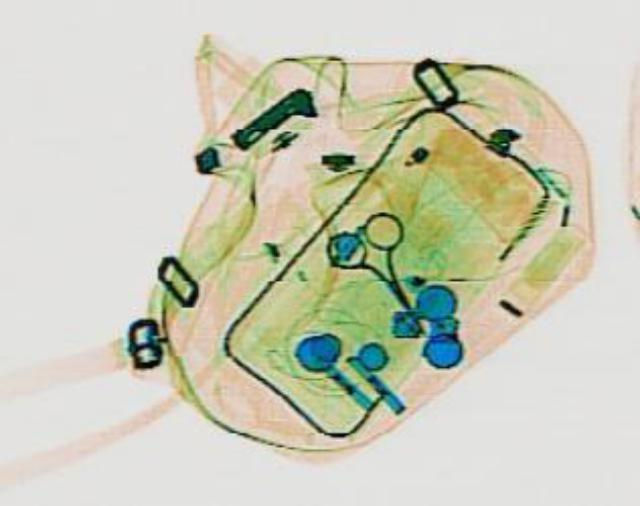Scissors: (307, 205, 459, 337)
